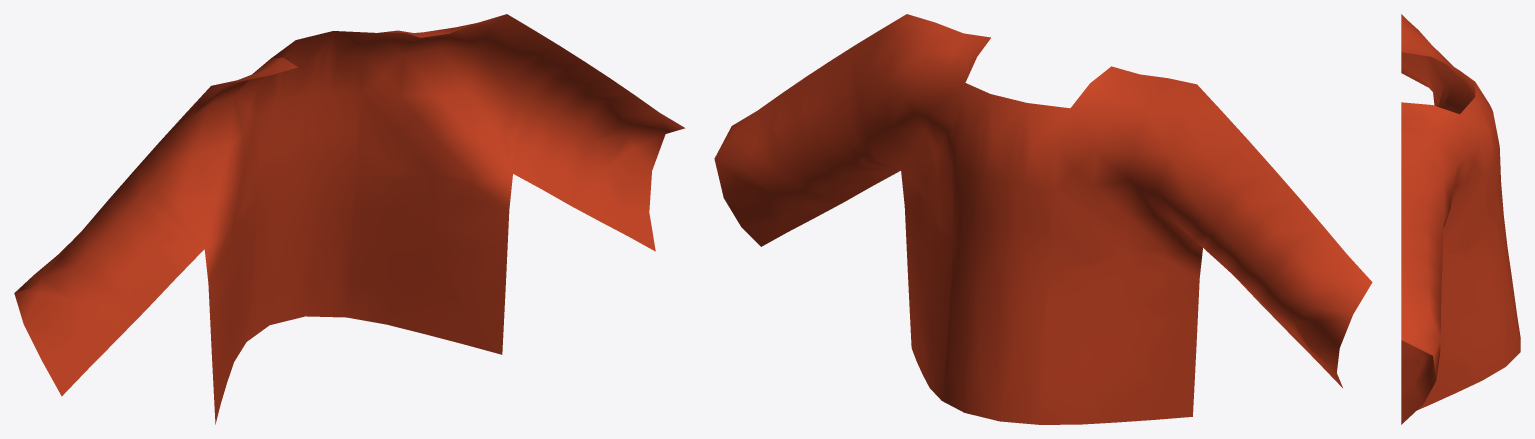
The model's file is Back draped.obj.
The picture shows the model from 3 angles, left to right: view 1: azimuth 30°, elevation 25°; view 2: azimuth 150°, elevation 25°; view 3: azimuth 270°, elevation 25°; orthographic projection. The views are drawn at different scales.
Parts seen in each view (by area): view 1: piece_31; view 2: piece_31; view 3: piece_31.
Part boxes in pixels (left/top/right/bottom): piece_31: left=14, top=14, right=685, bottom=424; piece_31: left=714, top=14, right=1372, bottom=424; piece_31: left=1401, top=14, right=1520, bottom=424.
Bounding box in the file's own units: 1.19 × 0.5924 × 0.2254.
